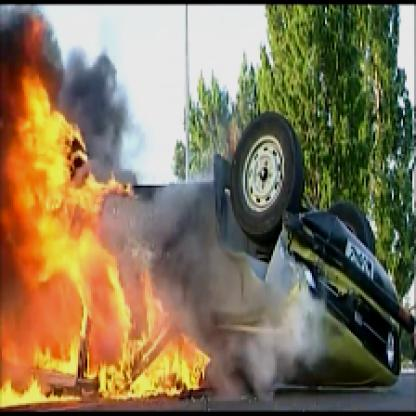Fire: (2, 41, 212, 410)
